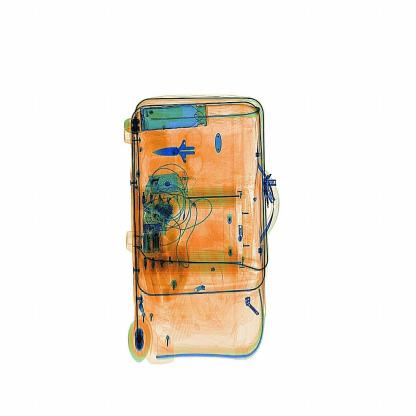gun: (144, 118, 224, 184)
